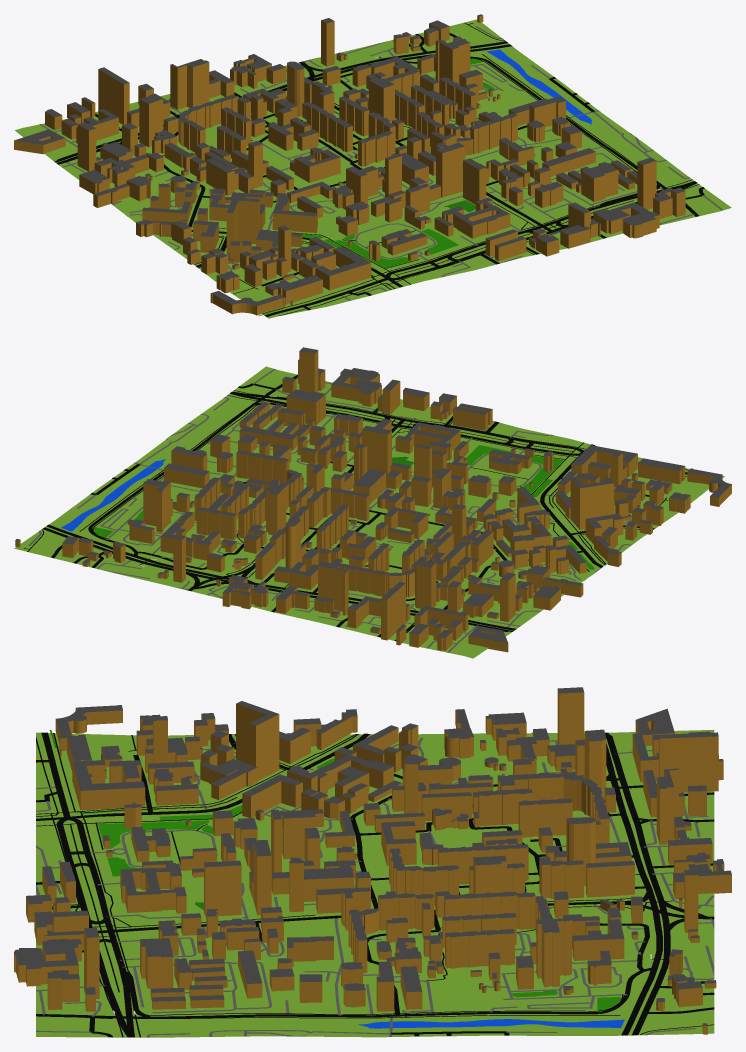
File: tile_06_05.glb
The picture shows the model from 3 angles, top to bottom: view 1: azimuth 30°, elevation 25°; view 2: azimuth 150°, elevation 25°; view 3: azimuth 270°, elevation 25°; orthographic projection. The views are drawn at different scales.
Parts seen in each view (by area): view 1: Ub_small.osm_buildings_06_05, Terrain_06_05, Ub_small.osm_roads_service_06_05, Ub_small.osm_roads_primary_06_05, Ub_small.osm_paths_footway_06_05, Ub_small.osm_roads_residential_06_05, Ub_small.osm_vegetation_06_05, Ub_small.osm_roads_tertiary_06_05, Ub_small.osm_water_06_05; view 2: Ub_small.osm_buildings_06_05, Terrain_06_05, Ub_small.osm_roads_service_06_05, Ub_small.osm_roads_primary_06_05, Ub_small.osm_paths_footway_06_05, Ub_small.osm_roads_residential_06_05, Ub_small.osm_vegetation_06_05, Ub_small.osm_roads_tertiary_06_05, Ub_small.osm_water_06_05, Ub_small.osm_roads_secondary_06_05; view 3: Ub_small.osm_buildings_06_05, Terrain_06_05, Ub_small.osm_roads_primary_06_05, Ub_small.osm_roads_service_06_05, Ub_small.osm_paths_footway_06_05, Ub_small.osm_roads_residential_06_05, Ub_small.osm_vegetation_06_05, Ub_small.osm_roads_tertiary_06_05, Ub_small.osm_water_06_05, Ub_small.osm_roads_secondary_06_05.
Boxes of the visible parts, left/top/right/bottom form: Ub_small.osm_buildings_06_05: left=14, top=14, right=685, bottom=315; Terrain_06_05: left=15, top=19, right=731, bottom=318; Ub_small.osm_roads_service_06_05: left=39, top=26, right=723, bottom=300; Ub_small.osm_roads_primary_06_05: left=54, top=41, right=696, bottom=316; Ub_small.osm_paths_footway_06_05: left=162, top=22, right=699, bottom=315; Ub_small.osm_roads_residential_06_05: left=121, top=33, right=704, bottom=295; Ub_small.osm_vegetation_06_05: left=302, top=58, right=494, bottom=276; Ub_small.osm_roads_tertiary_06_05: left=95, top=56, right=698, bottom=267; Ub_small.osm_water_06_05: left=486, top=49, right=592, bottom=124; Ub_small.osm_buildings_06_05: left=15, top=347, right=731, bottom=652; Terrain_06_05: left=14, top=366, right=724, bottom=658; Ub_small.osm_roads_service_06_05: left=28, top=369, right=641, bottom=652; Ub_small.osm_roads_primary_06_05: left=42, top=391, right=722, bottom=631; Ub_small.osm_paths_footway_06_05: left=24, top=375, right=688, bottom=588; Ub_small.osm_roads_residential_06_05: left=51, top=383, right=649, bottom=637; Ub_small.osm_vegetation_06_05: left=93, top=445, right=594, bottom=569; Ub_small.osm_roads_tertiary_06_05: left=88, top=375, right=653, bottom=640; Ub_small.osm_water_06_05: left=61, top=459, right=165, bottom=531; Ub_small.osm_roads_secondary_06_05: left=222, top=419, right=602, bottom=577; Ub_small.osm_buildings_06_05: left=14, top=687, right=731, bottom=1034; Terrain_06_05: left=36, top=729, right=714, bottom=1037; Ub_small.osm_roads_primary_06_05: left=41, top=732, right=714, bottom=1037; Ub_small.osm_roads_service_06_05: left=36, top=732, right=714, bottom=1037; Ub_small.osm_paths_footway_06_05: left=36, top=733, right=714, bottom=1037; Ub_small.osm_roads_residential_06_05: left=36, top=754, right=714, bottom=1037; Ub_small.osm_vegetation_06_05: left=82, top=749, right=621, bottom=1010; Ub_small.osm_roads_tertiary_06_05: left=36, top=734, right=651, bottom=1018; Ub_small.osm_water_06_05: left=358, top=1019, right=624, bottom=1028; Ub_small.osm_roads_secondary_06_05: left=36, top=733, right=656, bottom=933.
Bounding box in the file's own units: 1035 × 101 × 985.
